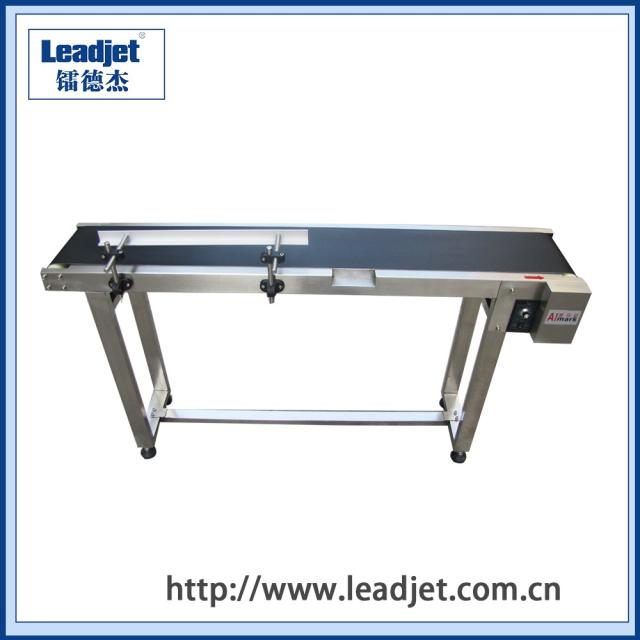conveyor: (35, 173, 640, 497)
